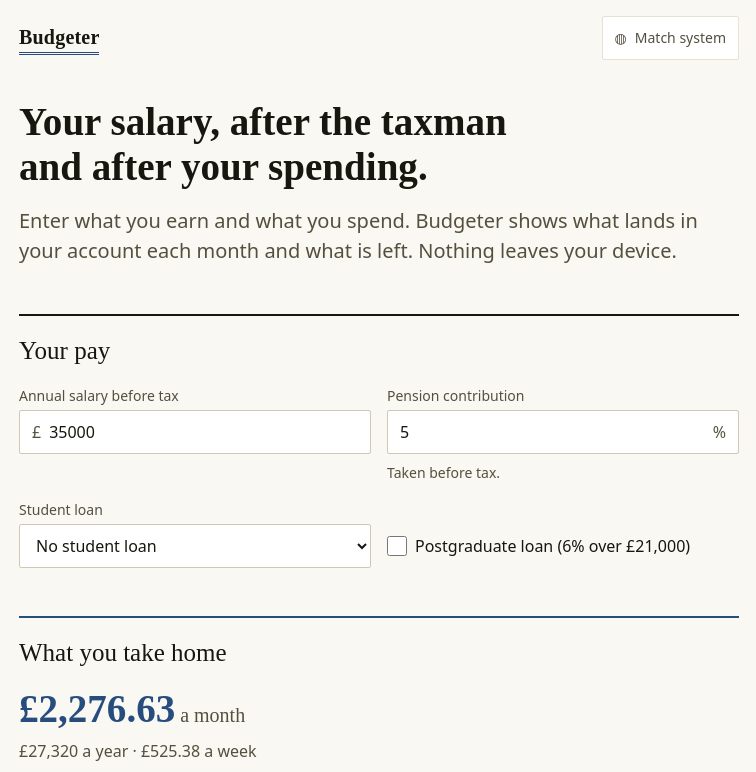
it: Budgeter › recomputes take-home when the salary changes
Replace the text in the field labelled "Annual salary before tax" with "£30,000" at (204, 432), box [49, 412, 358, 452]
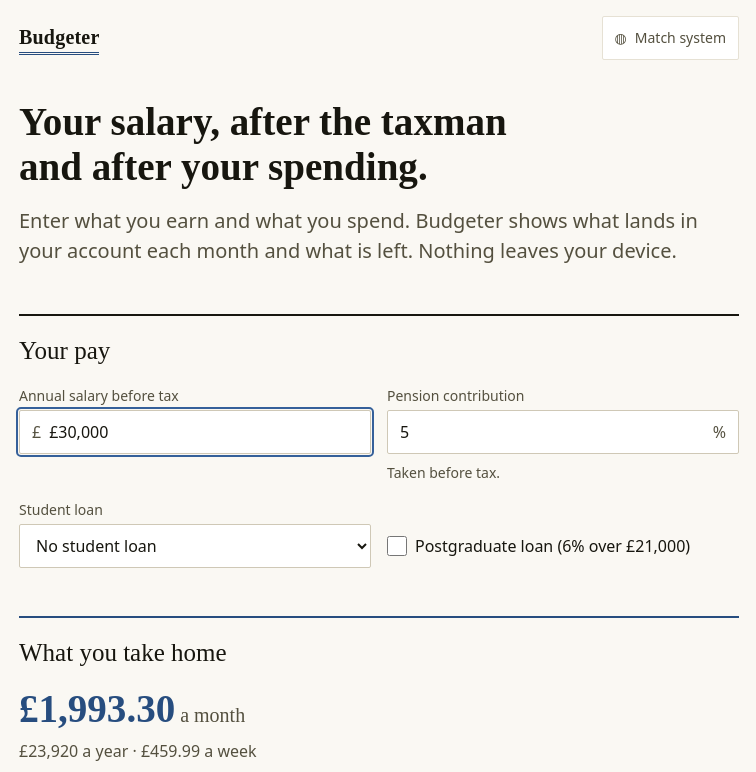
Result: the element with test id "takehome-month" shows "£1,993.30" at [19, 687, 175, 730]
